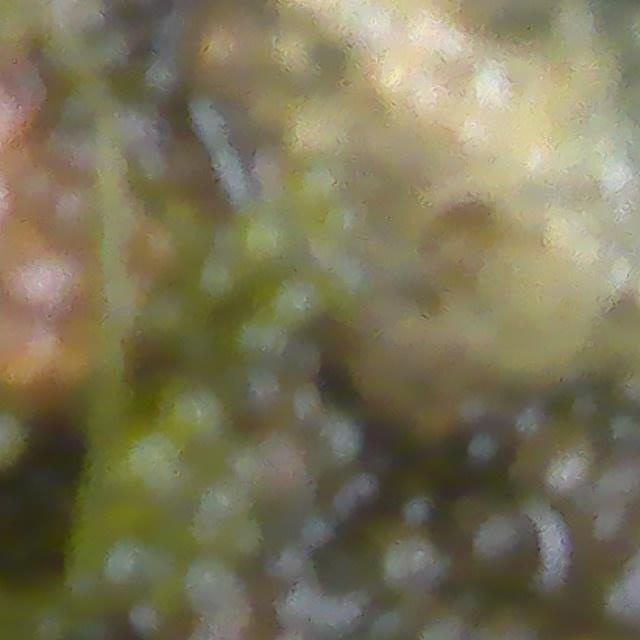SeaGrape: (158, 378, 233, 451), (467, 510, 539, 585), (456, 424, 511, 480)
